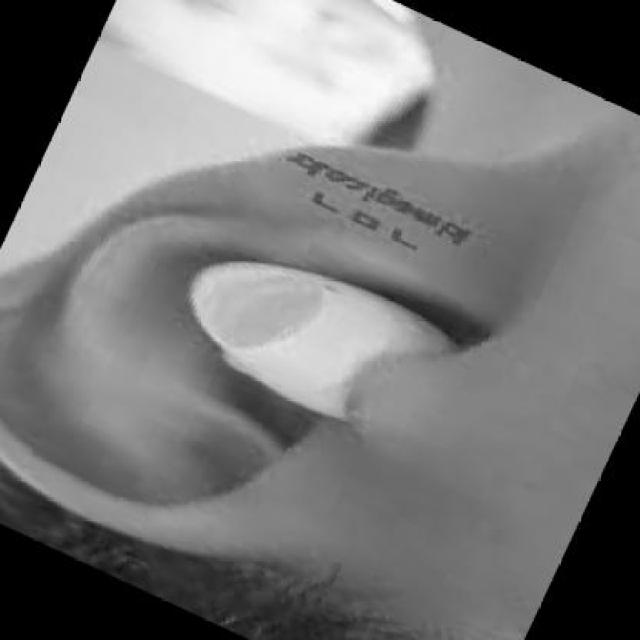earphone: (186, 235, 459, 448)
